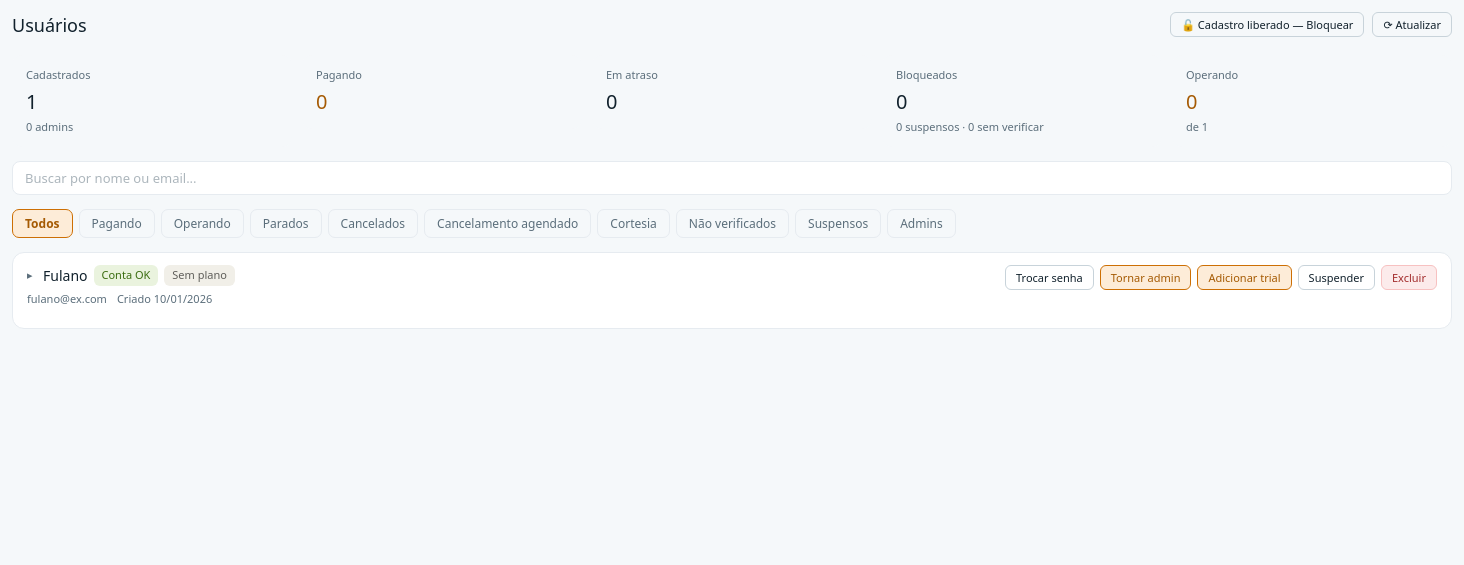
Test: Admin › Usuários › clicar no usuário busca a ficha uma vez e reaproveita no segundo clique
Click the button with aria-label "Ficha de Fulano". click: click(65, 276)
box: [27,265,1437,306]
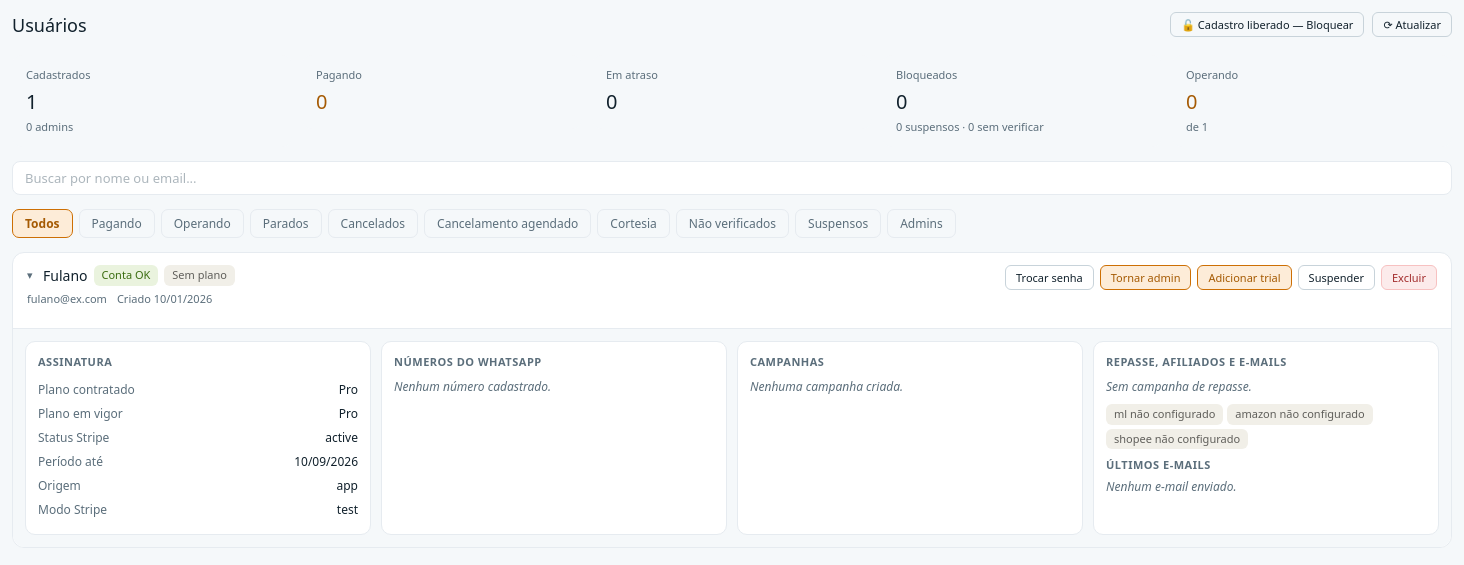
Expected: the text "Assinatura" is shown, [38,354,112,368]
Click the button with aria-label "Ficha de Fulano". click: click(65, 276)
box: [27,265,1437,306]
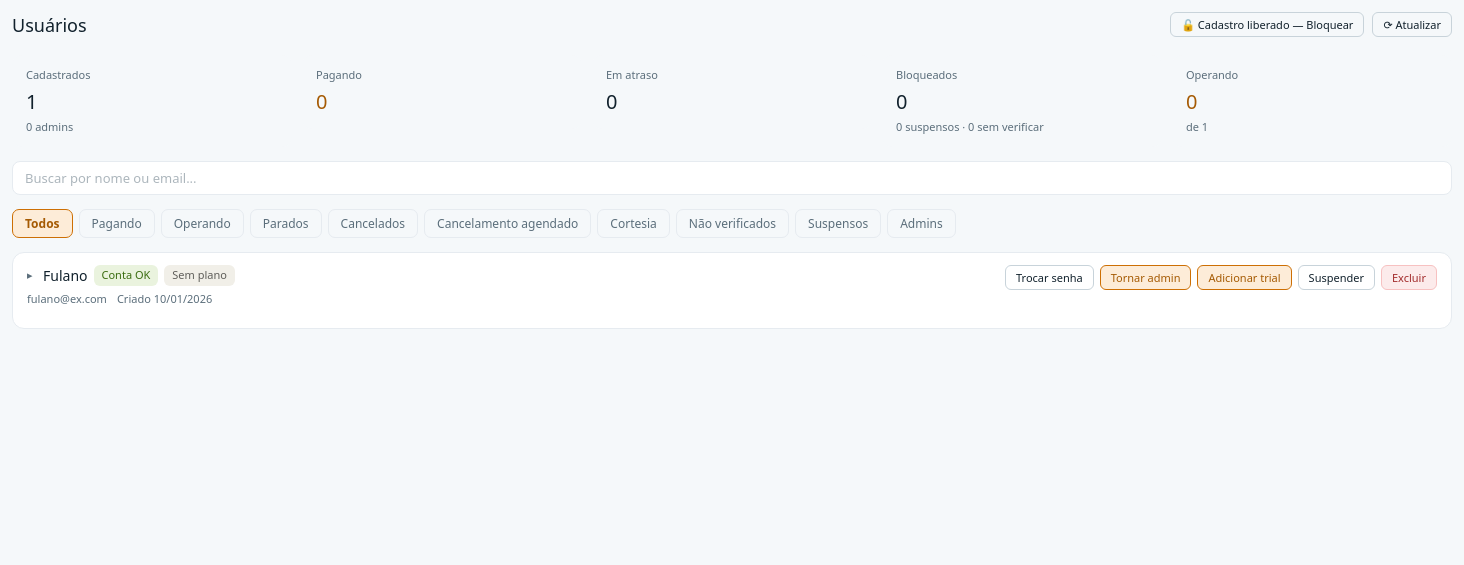
Expected: the text "Assinatura" is gone
Click the button with aria-label "Ficha de Fulano". click: click(65, 276)
box: [27,265,1437,306]
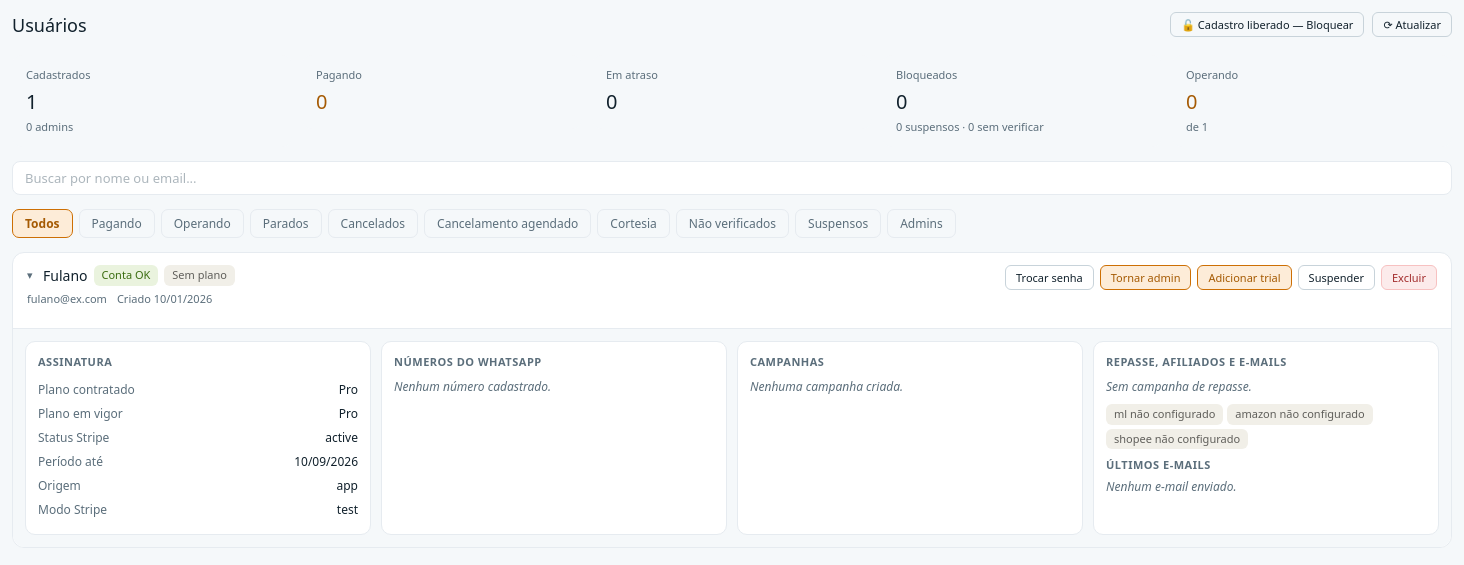
Expected: the text "Assinatura" is shown, [38,354,112,368]
